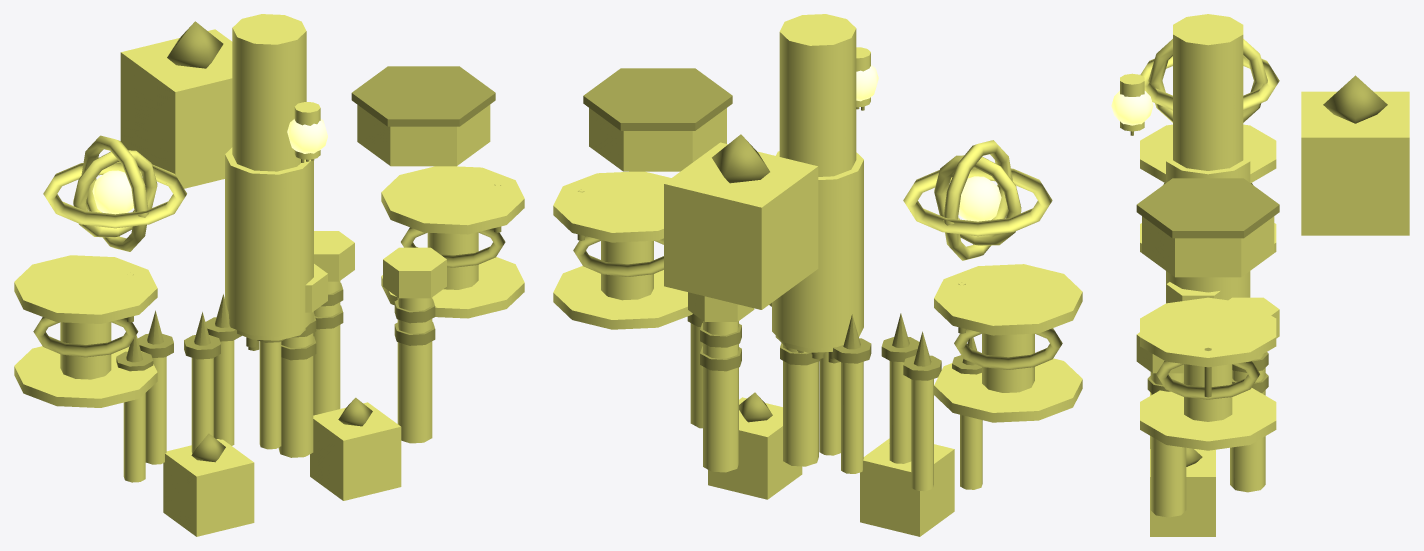
The model's file is golem_071.glb.
3 views of the same model, side by side, from view 1: azimuth 30°, elevation 25°; view 2: azimuth 150°, elevation 25°; view 3: azimuth 270°, elevation 25° (orthographic). The views are drawn at different scales.
Visible parts, largest first — view 1: Body, Detail, Glow; view 2: Body, Detail, Glow; view 3: Body, Detail, Glow.
Part boxes in pixels (x1,y1,x2,y2): Body: (14,14,524,536); Detail: (33,21,505,462); Glow: (92,119,327,214); Body: (553,14,1082,536); Detail: (573,68,1062,422); Glow: (856,65,1001,221); Body: (1120,14,1409,536); Detail: (1130,75,1387,466); Glow: (1111,91,1153,125).
Bounding box in the file's own units: 1.47 × 1.32 × 0.7794.
